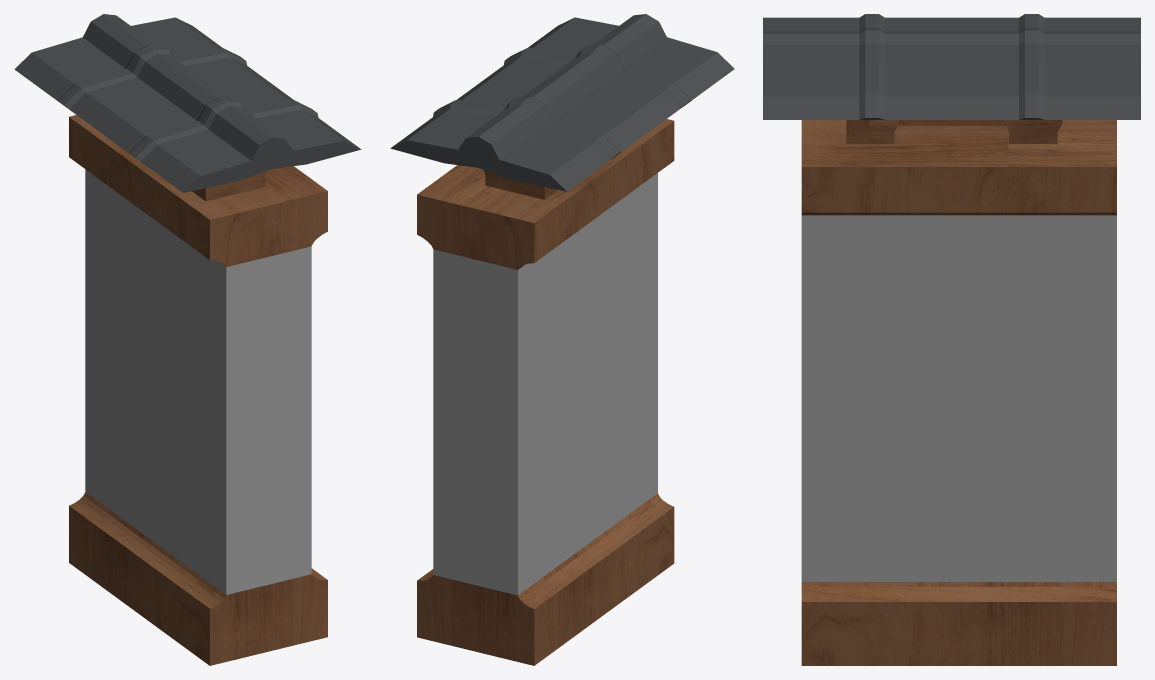
File: MurallitaUWU.fbx
3 views of the same model, side by side, from view 1: azimuth 30°, elevation 25°; view 2: azimuth 150°, elevation 25°; view 3: azimuth 270°, elevation 25° (orthographic). The views are drawn at different scales.
Visible parts, largest first — view 1: Pared; view 2: Pared; view 3: Pared.
Boxes of the visible parts, left/top/right/bottom form: Pared: left=14, top=14, right=361, bottom=665; Pared: left=390, top=14, right=734, bottom=665; Pared: left=763, top=14, right=1140, bottom=665.
Size of the model in its own units: 308 by 861 by 495.
3 materials, 1 textured.
